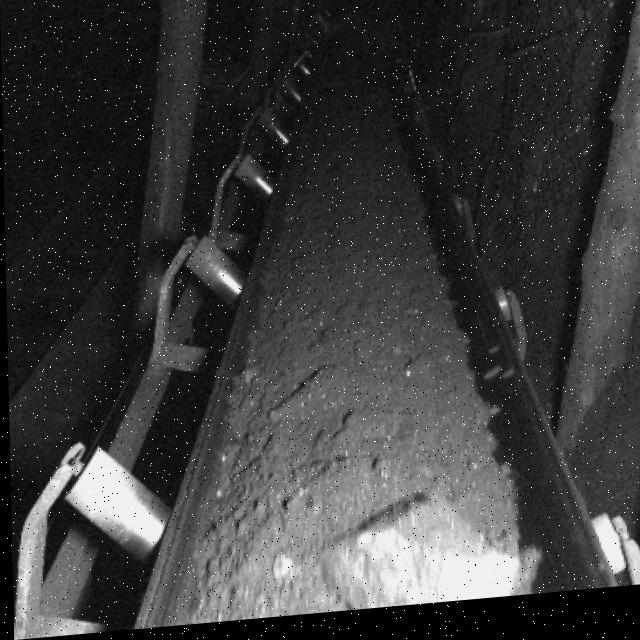large_sized_coal: (320, 488, 529, 618)
